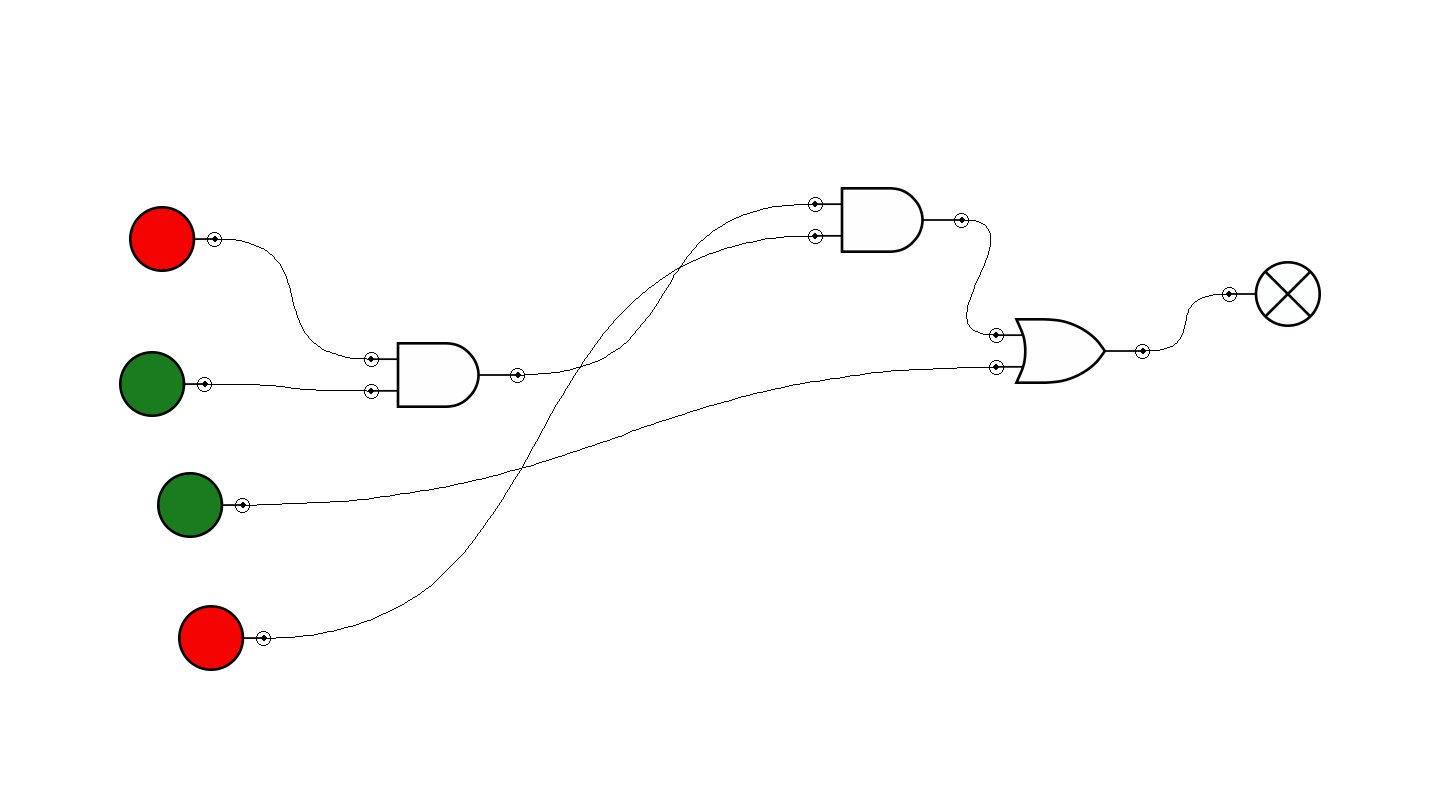and: (808, 187, 969, 253), (364, 342, 525, 408)
bulb: (1222, 261, 1321, 327)
or: (989, 318, 1150, 384)
switch_False: (129, 206, 222, 272), (178, 605, 271, 671)
switch_True: (119, 351, 212, 417), (157, 472, 250, 538)
